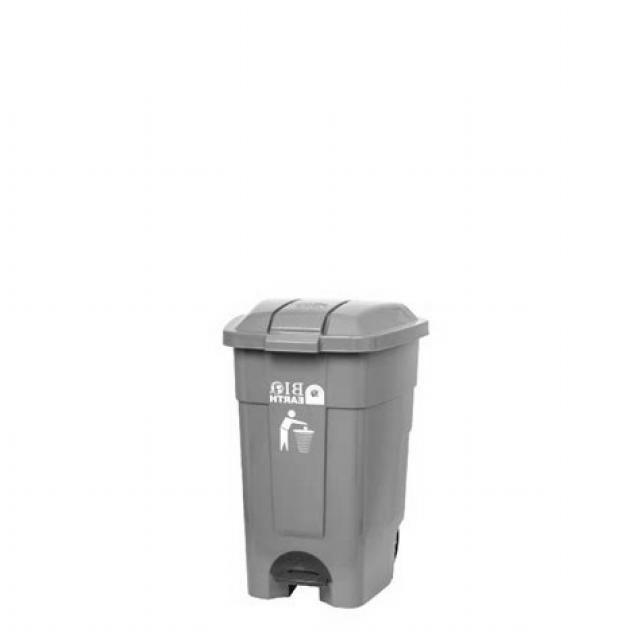garbage container: (136, 273, 456, 617)
